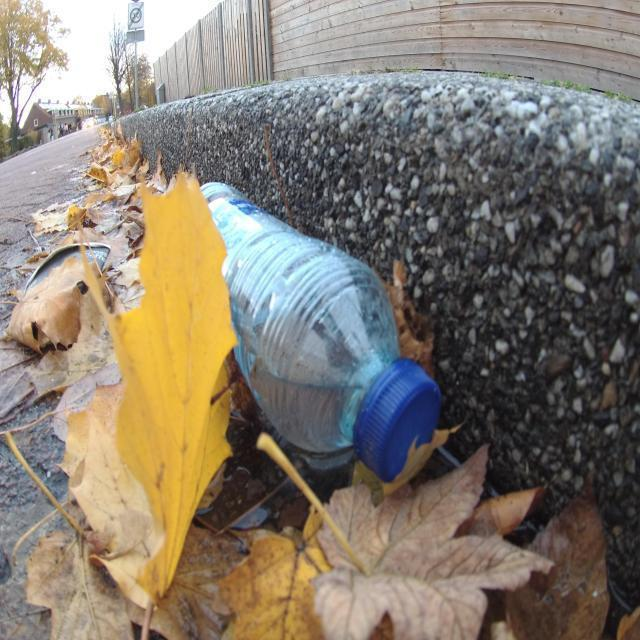Cup: (22, 238, 110, 302)
